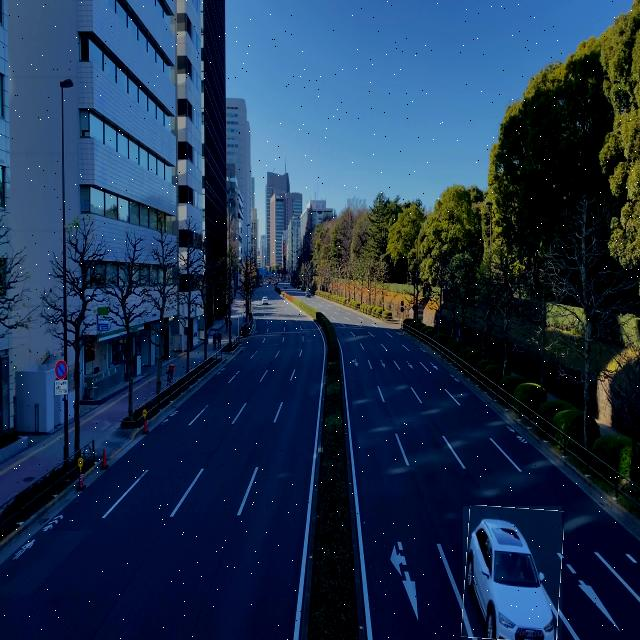Car: (463, 506, 562, 640)
